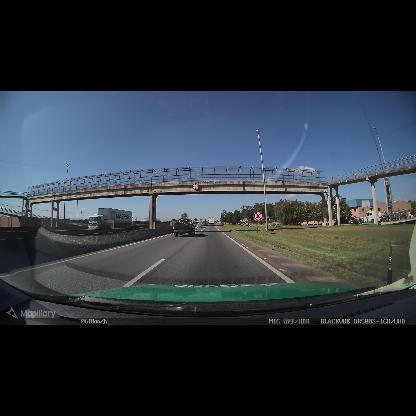R-15: (192, 183, 199, 190)
R-6c: (254, 212, 263, 220)
